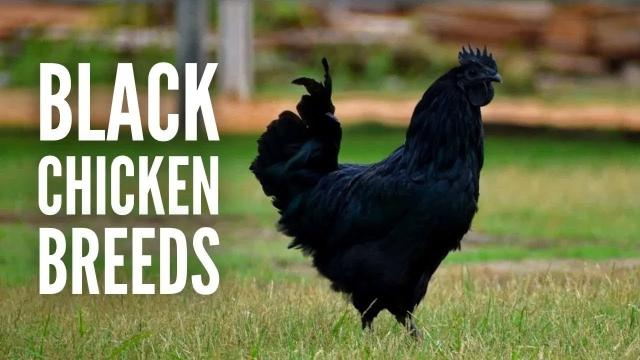Chicken: (249, 44, 503, 339)
